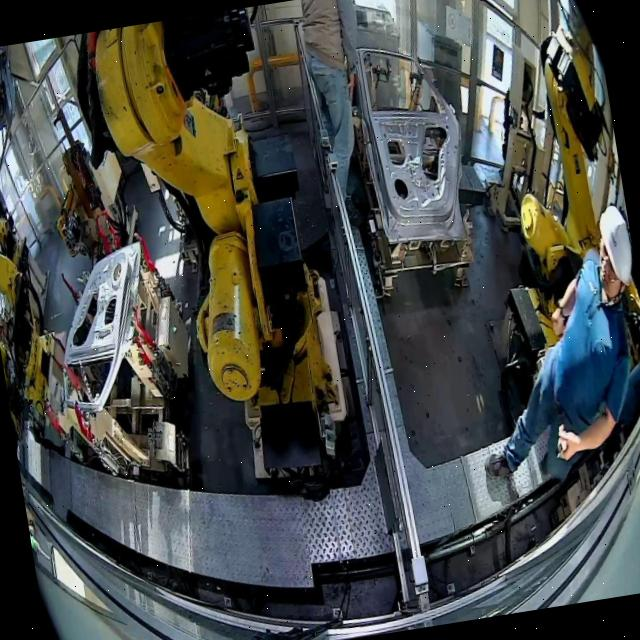Person: (448, 202, 640, 481), (527, 248, 640, 464), (297, 0, 390, 230)
